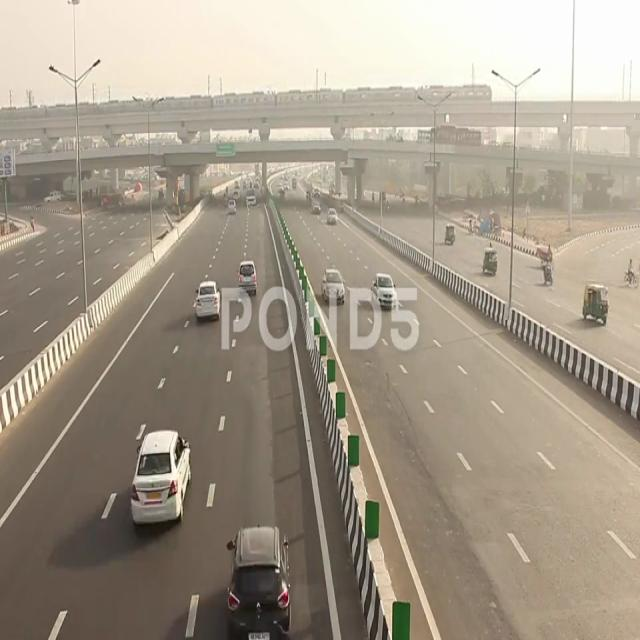car: (224, 517, 294, 640), (127, 425, 194, 544), (192, 271, 223, 327), (371, 272, 398, 318), (322, 266, 348, 308), (239, 253, 257, 295)
rikshaw: (582, 272, 610, 328), (481, 247, 499, 277)
